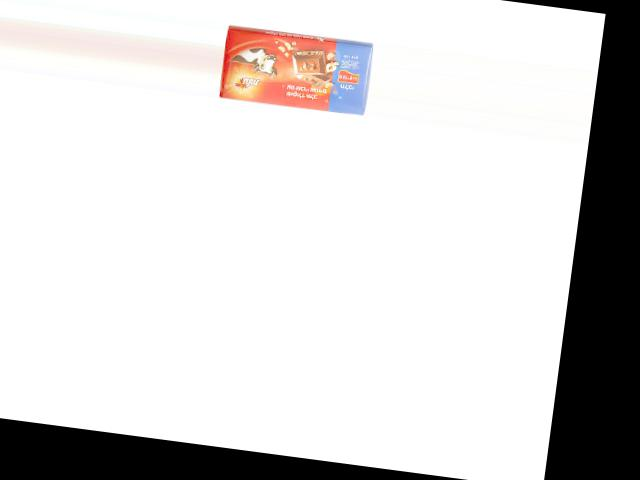chocolate: (218, 18, 373, 115)
